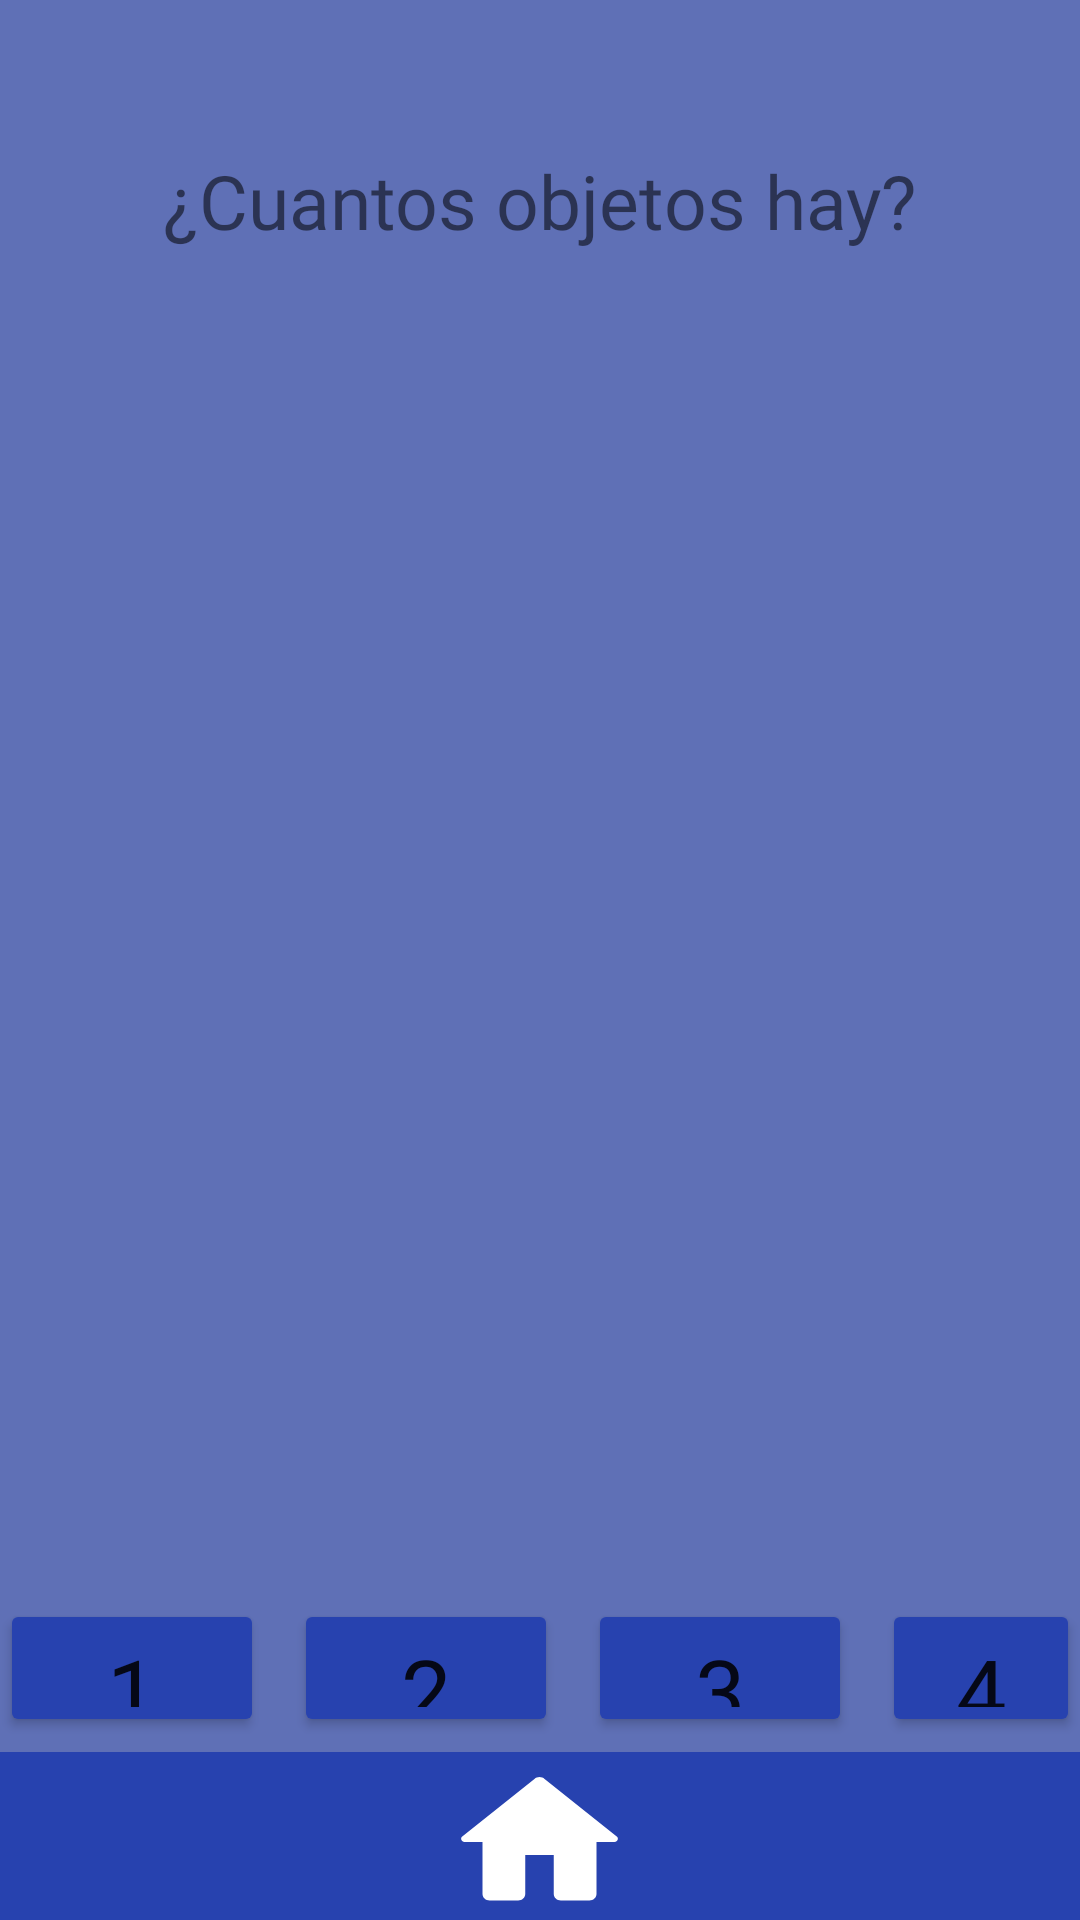

Where icons sit on this 1080*1920 app screen, as (left=x1, top=y1, right=x2, bottom=y2):
home: (left=461, top=1777, right=618, bottom=1901)
